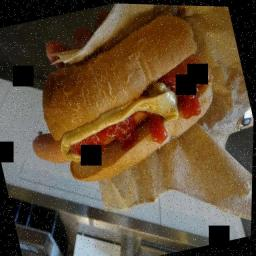hotdog: (26, 80, 222, 174), (159, 51, 214, 92)
